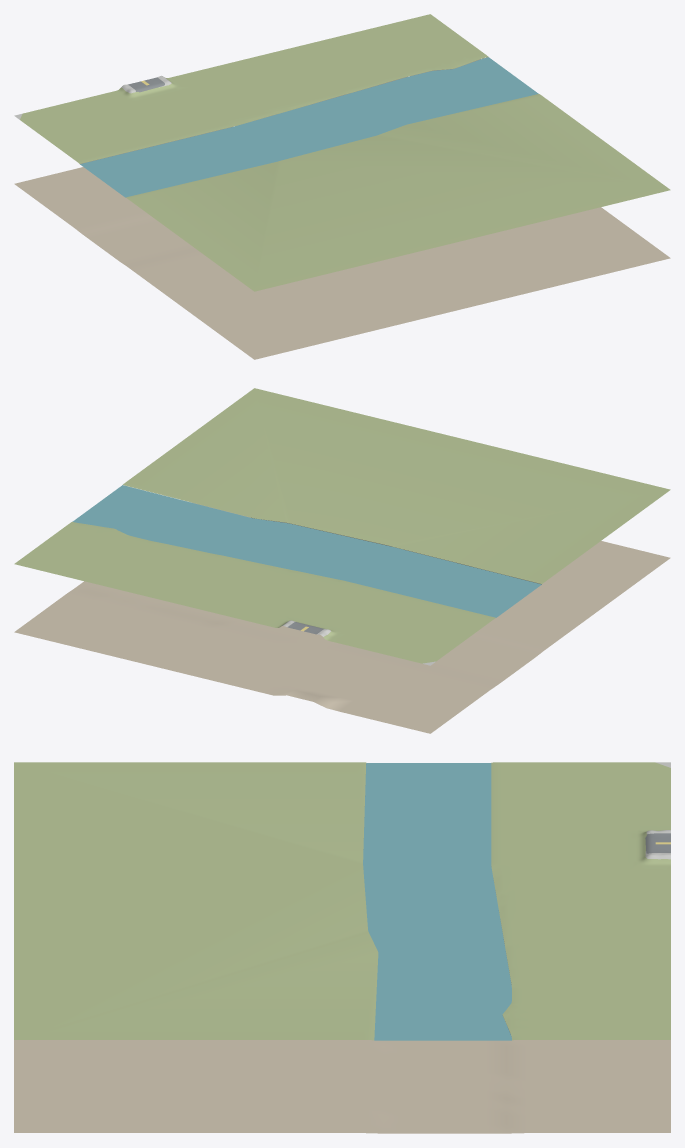
The picture shows the model from 3 angles, top to bottom: view 1: azimuth 30°, elevation 25°; view 2: azimuth 150°, elevation 25°; view 3: azimuth 270°, elevation 25°; orthographic projection. The views are drawn at different scales.
Visible parts, largest first — view 1: s_-7_6__grass, s_-7_6__soil, s_-7_6__water; view 2: s_-7_6__grass, s_-7_6__soil, s_-7_6__water; view 3: s_-7_6__grass, s_-7_6__soil, s_-7_6__water.
Part boxes in pixels (box(x1,y1,x2,y2)): s_-7_6__grass: box(20, 14, 670, 291); s_-7_6__soil: box(14, 167, 670, 359); s_-7_6__water: box(80, 57, 538, 197); s_-7_6__grass: box(14, 388, 670, 663); s_-7_6__soil: box(14, 502, 670, 733); s_-7_6__water: box(72, 485, 541, 617); s_-7_6__grass: box(14, 762, 670, 1040); s_-7_6__soil: box(14, 1040, 670, 1133); s_-7_6__water: box(363, 763, 511, 1040).
Bounding box in the file's own units: 128 × 21.32 × 128.
